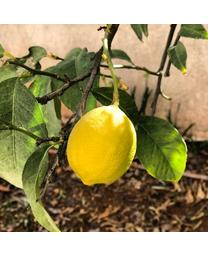lemon: (67, 107, 138, 187)
